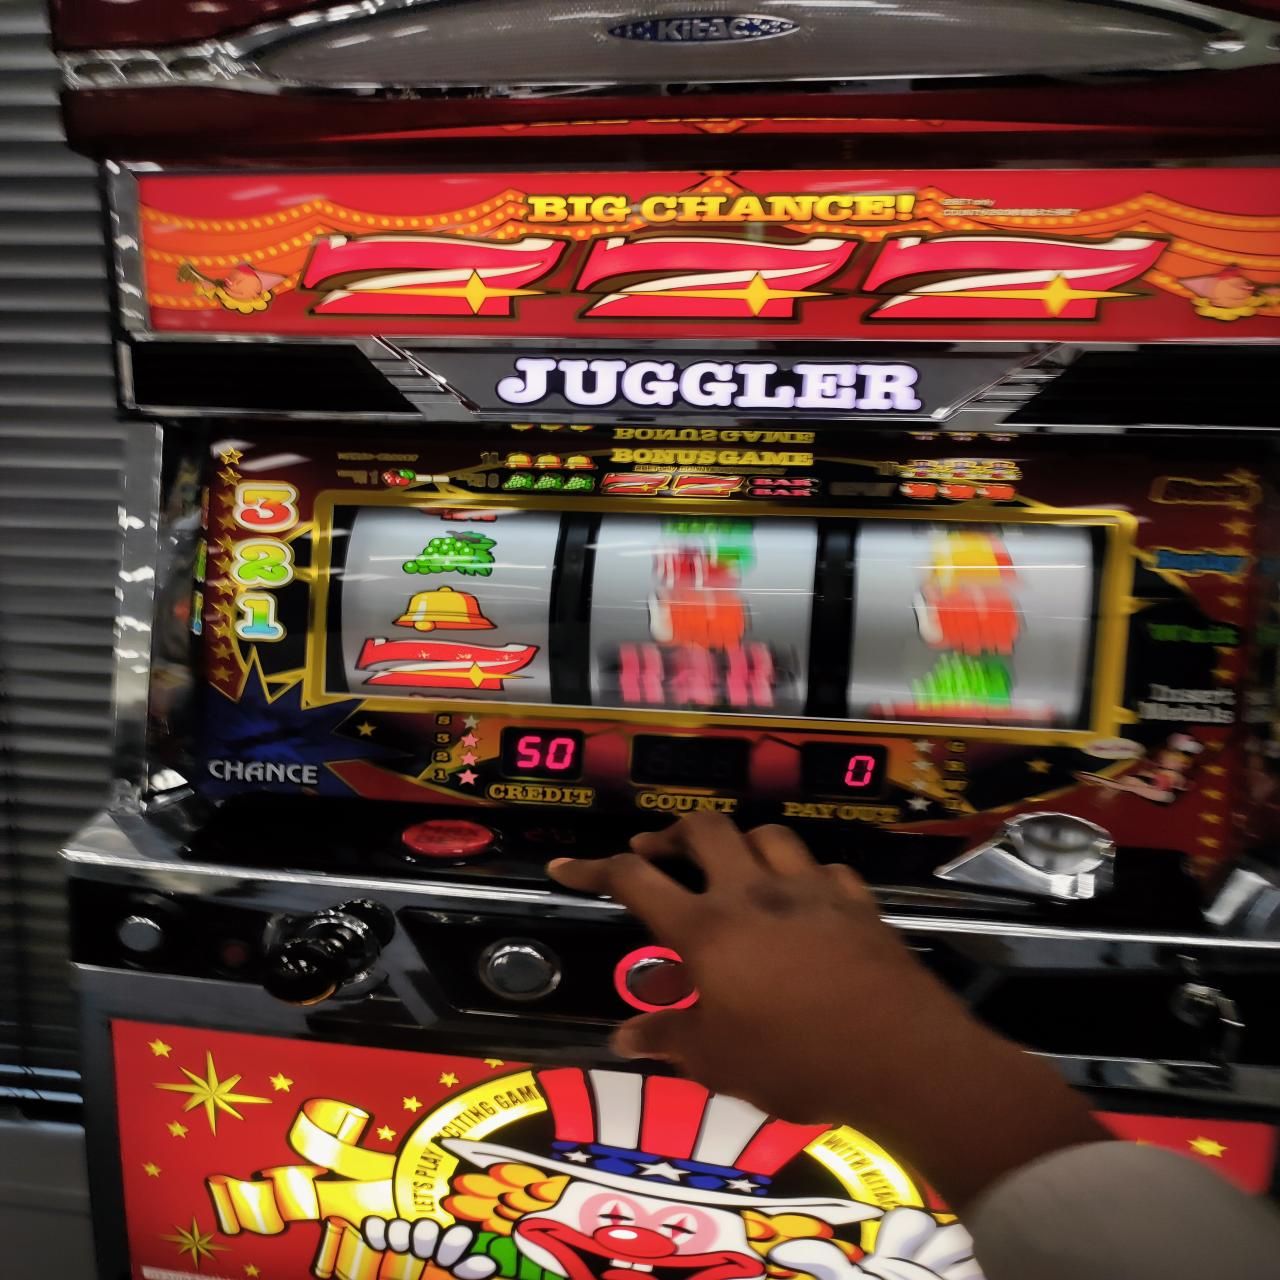7: (356, 635, 537, 694)
bell: (389, 586, 493, 632)
grape: (401, 530, 496, 576)
rhino: (325, 502, 1114, 735)
